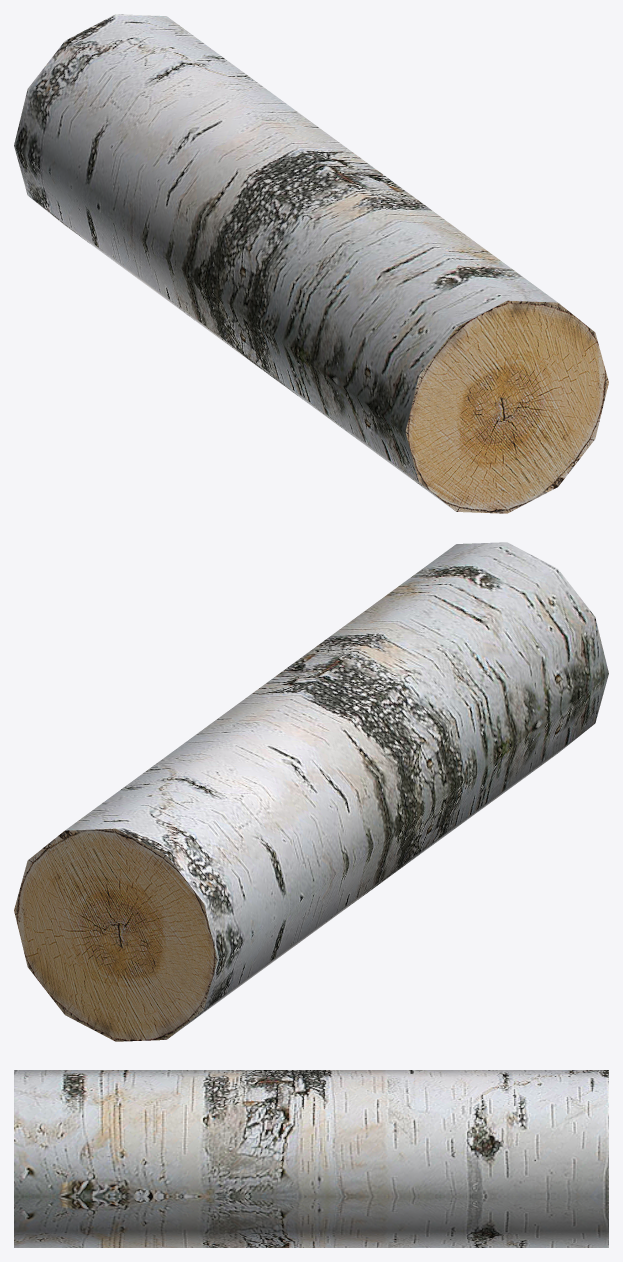
Rendered from BirchLog.fbx.
3 renders of one model, top to bottom at view 1: azimuth 30°, elevation 25°; view 2: azimuth 150°, elevation 25°; view 3: azimuth 270°, elevation 25°, orthographic. The views are drawn at different scales.
Parts seen in each view (by area): view 1: BirchLog; view 2: BirchLog; view 3: BirchLog.
Boxes of the visible parts, left/top/right/bottom form: BirchLog: left=14, top=14, right=608, bottom=513; BirchLog: left=14, top=542, right=608, bottom=1041; BirchLog: left=14, top=1070, right=608, bottom=1247.
Size of the model in its own units: 25.53 by 25.53 by 85.01.
1 material, 1 textured.
